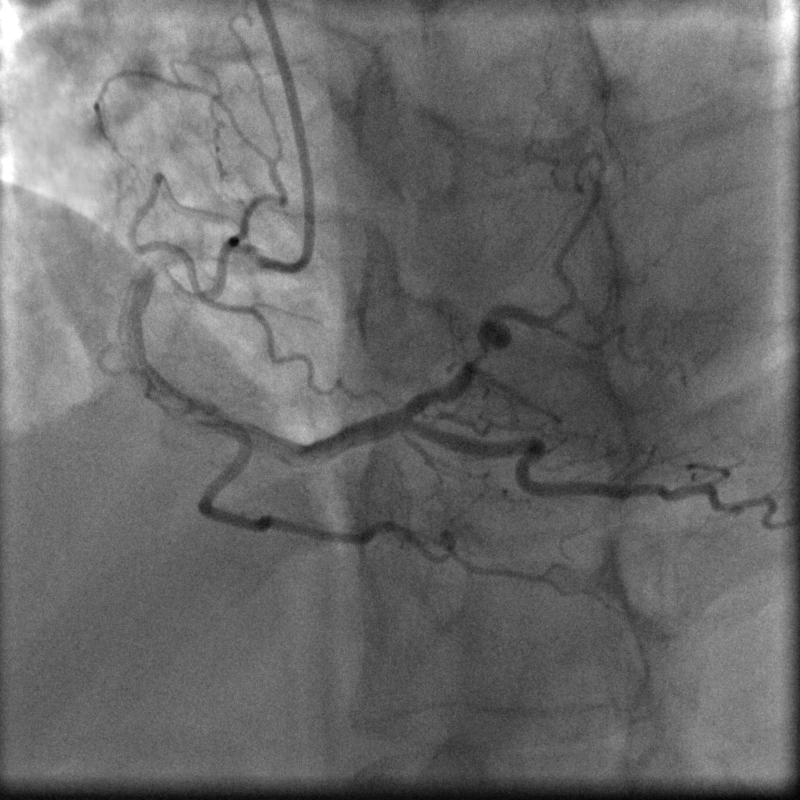Stenosis: (460, 331, 489, 372)
